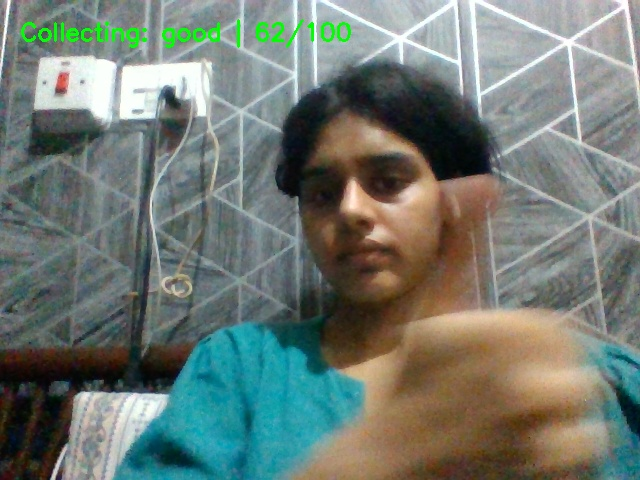good: (354, 179, 626, 480)
